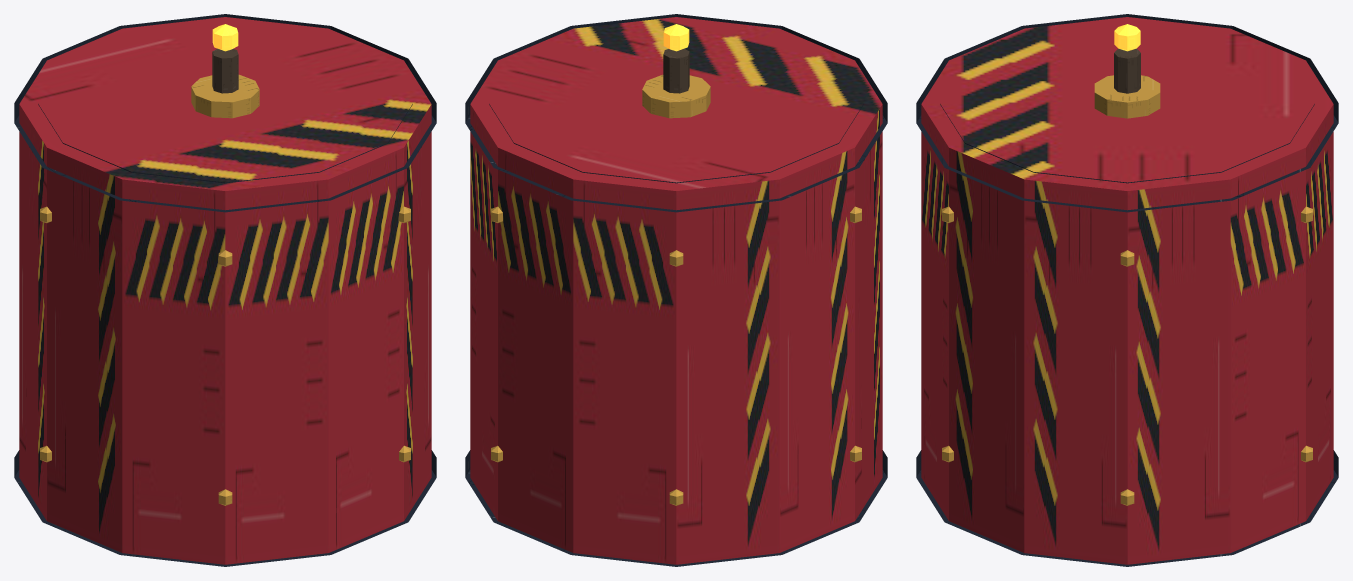
The model's file is nitro.glb.
3 views of the same model, side by side, from view 1: azimuth 30°, elevation 25°; view 2: azimuth 150°, elevation 25°; view 3: azimuth 270°, elevation 25° (orthographic).
Parts seen in each view (by area): view 1: body, fuse; view 2: body, fuse; view 3: body, fuse.
Part boxes in pixels (box(x1,y1,x2,y2)): body: box(14, 14, 436, 566); fuse: box(212, 24, 238, 93); body: box(465, 14, 887, 566); fuse: box(663, 24, 689, 93); body: box(916, 14, 1338, 566); fuse: box(1114, 24, 1140, 93).
Size of the model in its own units: 0.5091 by 0.595 by 0.5023.
Materials: 5 (5 with a texture image).
